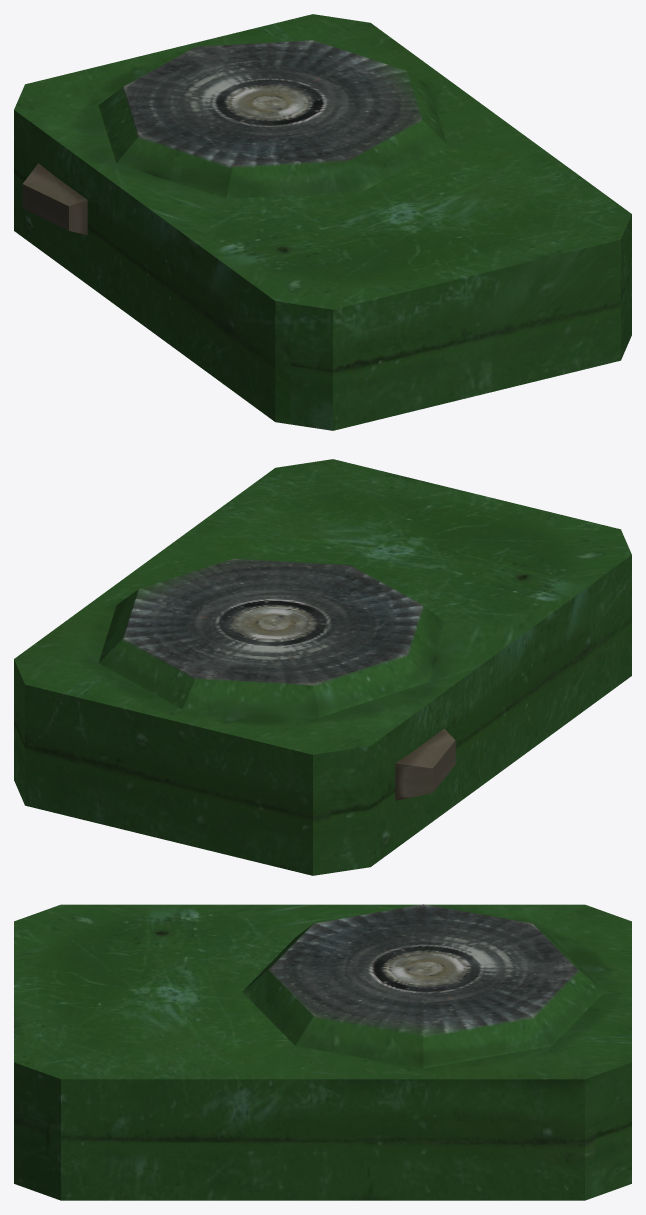
The model's file is exploration_flashlight_poquet.glb.
3 renders of one model, top to bottom at view 1: azimuth 30°, elevation 25°; view 2: azimuth 150°, elevation 25°; view 3: azimuth 270°, elevation 25°, orthographic.
Visible parts, largest first — view 1: world; view 2: world; view 3: world.
Part boxes in pixels (x1,y1,x2,y2): world: [14, 14, 631, 430]; world: [14, 459, 631, 875]; world: [14, 904, 631, 1200].
Bounding box in the file's own units: 0.1366 × 0.0487 × 0.19.
1 material, 1 textured.
